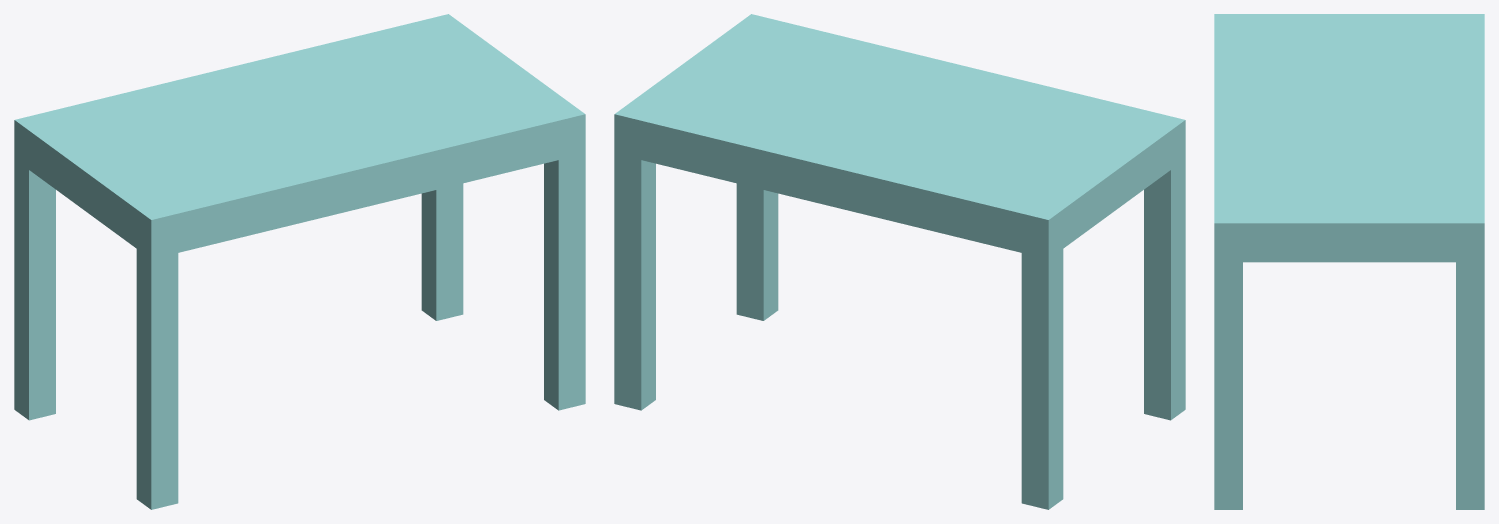
File: desk.fbx
3 renders of one model, left to right at view 1: azimuth 30°, elevation 25°; view 2: azimuth 150°, elevation 25°; view 3: azimuth 270°, elevation 25°, orthographic.
Parts seen in each view (by area): view 1: desk; view 2: desk; view 3: desk.
Boxes of the visible parts, x1,y1,x2,y2 form: desk: [14, 14, 585, 509]; desk: [614, 14, 1185, 509]; desk: [1214, 14, 1484, 509].
Bounding box in the file's own units: 5.9 × 3.77 × 3.23.
